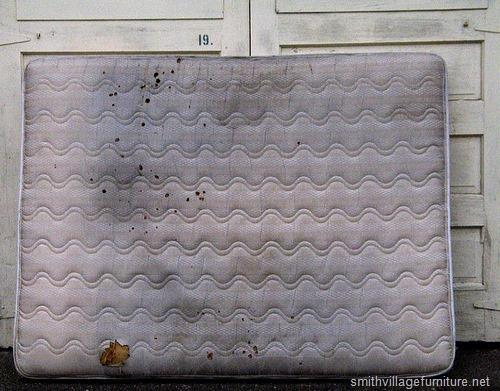Bed-Mattress: (6, 43, 472, 384)
